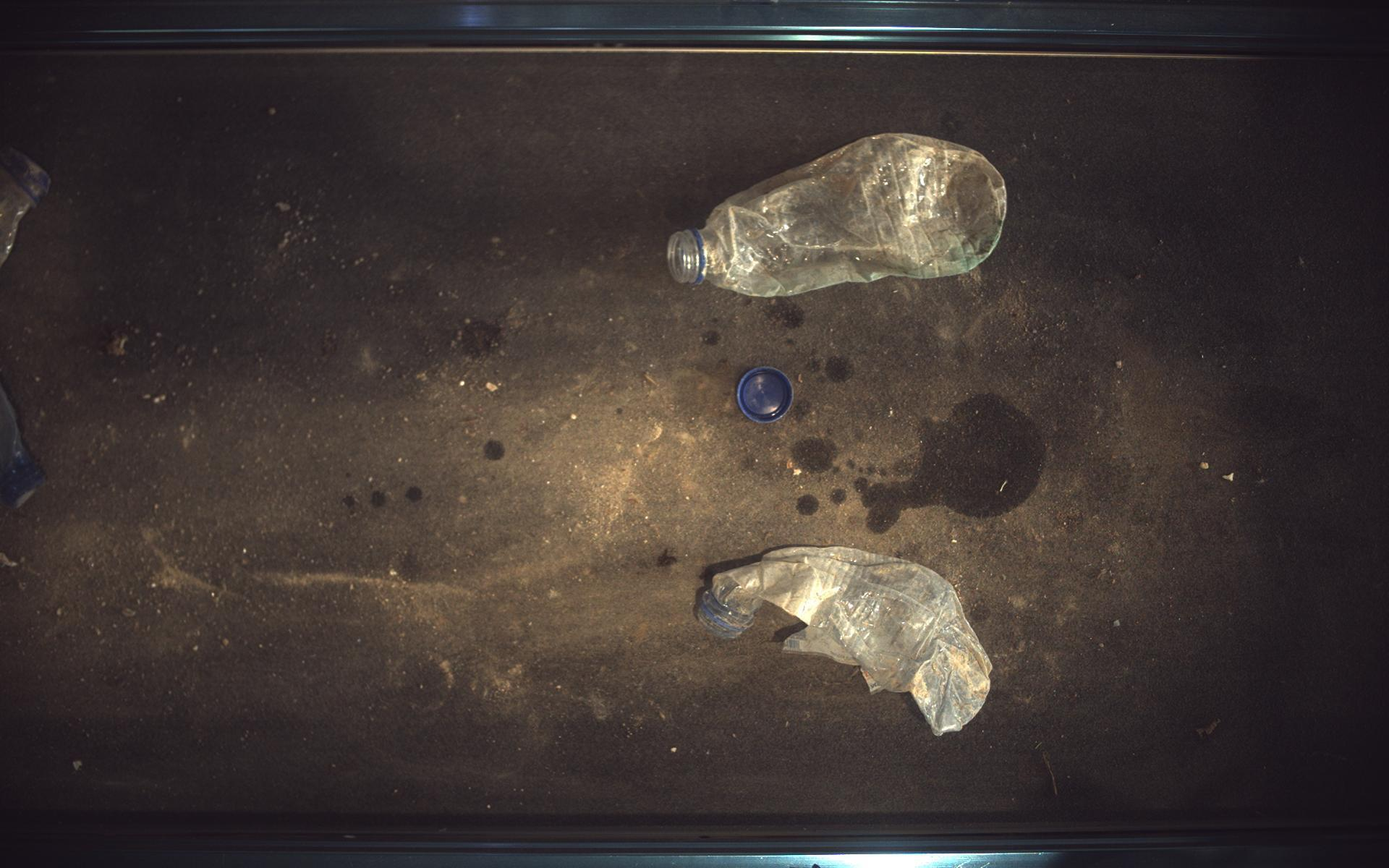general_w: (698, 548, 993, 736), (737, 366, 795, 424)
